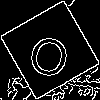O: (25, 25, 75, 80)
